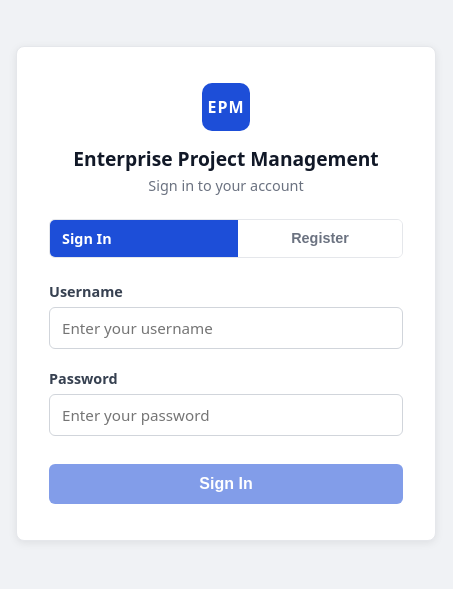
LoginPage › shows error message on failed login
This screenshot has width=453, height=589.
In the field labelled "Username": (226, 328) x1=49 y1=306 x2=403 y2=348, type "baduser"
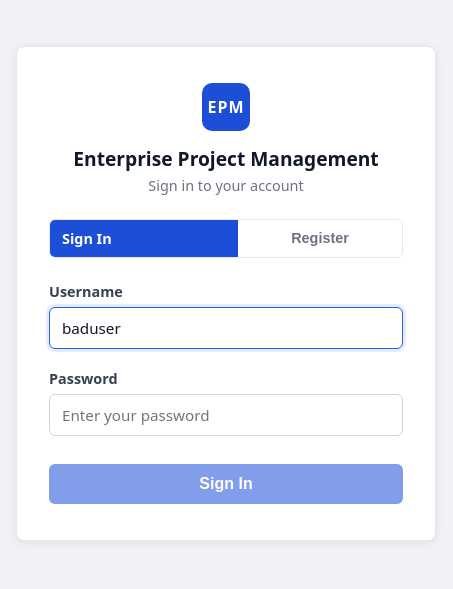
In the password field labelled "Password": (226, 414) x1=49 y1=394 x2=403 y2=436, type "badpass"
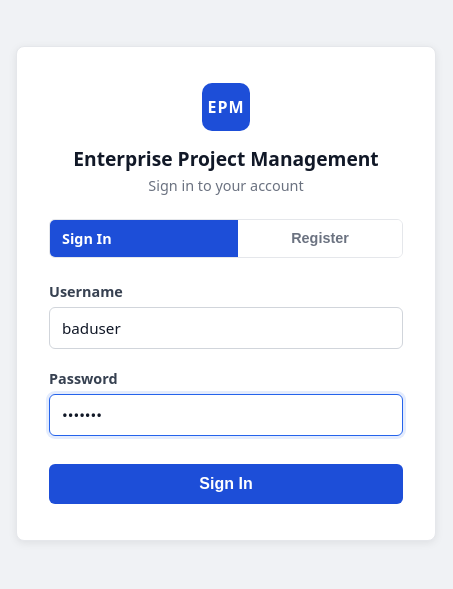
Click the button "Sign In": (226, 484) x1=49 y1=464 x2=403 y2=504
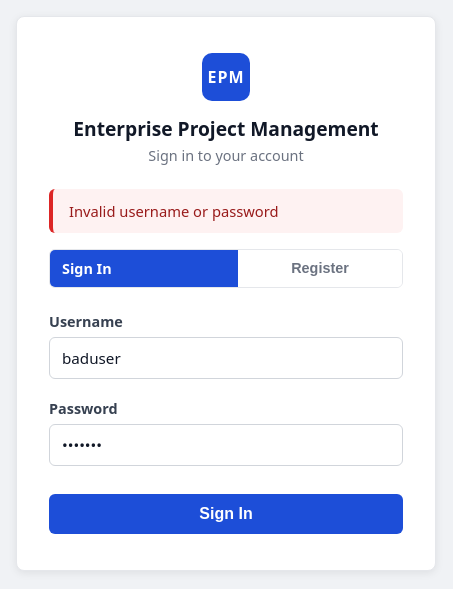
Result: the text "Invalid username or password" is shown at x1=49 y1=188 x2=403 y2=232
